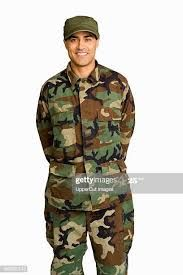uniform: (35, 57, 136, 271)
